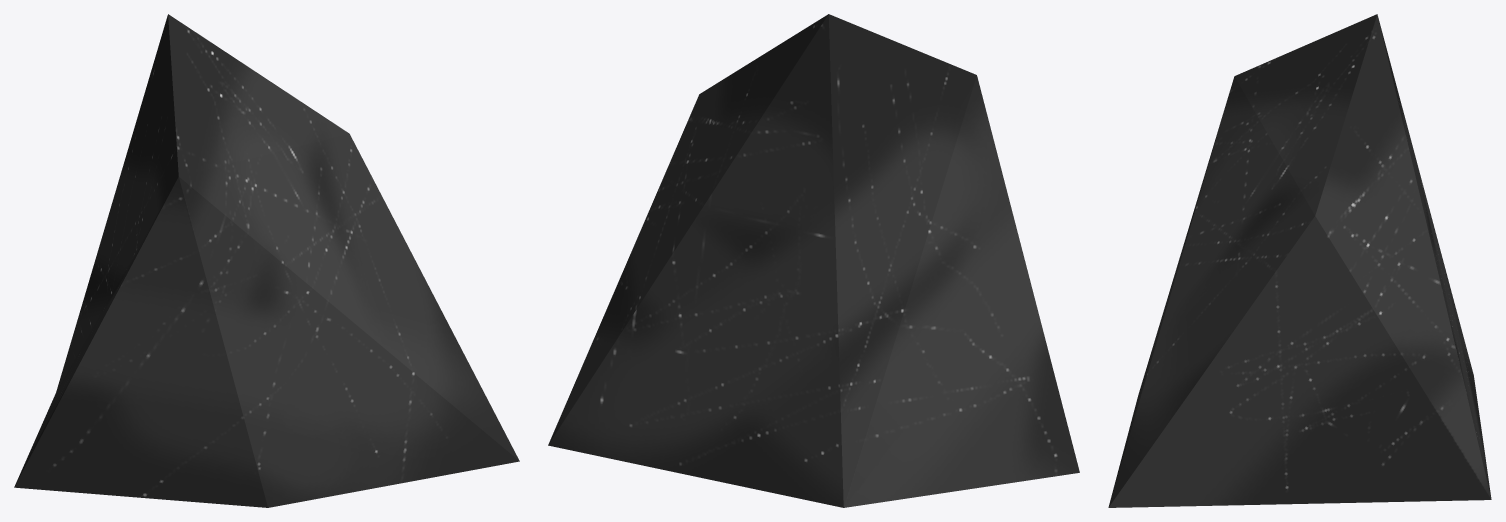
File: Iron_deposit_2_final.fbx
3 renders of one model, left to right at view 1: azimuth 30°, elevation 25°; view 2: azimuth 150°, elevation 25°; view 3: azimuth 270°, elevation 25°, orthographic. The views are drawn at different scales.
Visible parts, largest first — view 1: Cube; view 2: Cube; view 3: Cube.
Part boxes in pixels (<box>): Cube: <box>14,14,519,507</box>; Cube: <box>548,14,1079,507</box>; Cube: <box>1108,14,1491,507</box>.
Bounding box in the file's own units: 516 × 619 × 582.
1 material, 1 textured.
